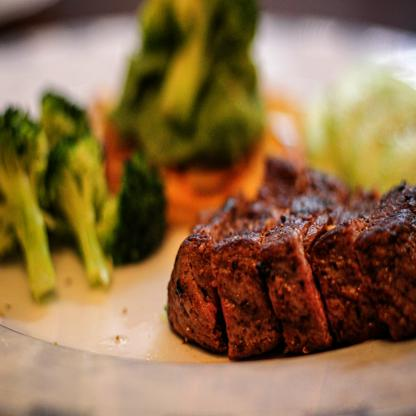Carne: (210, 178, 280, 362), (264, 177, 333, 354), (312, 175, 372, 335), (364, 178, 416, 336), (177, 221, 227, 352)
